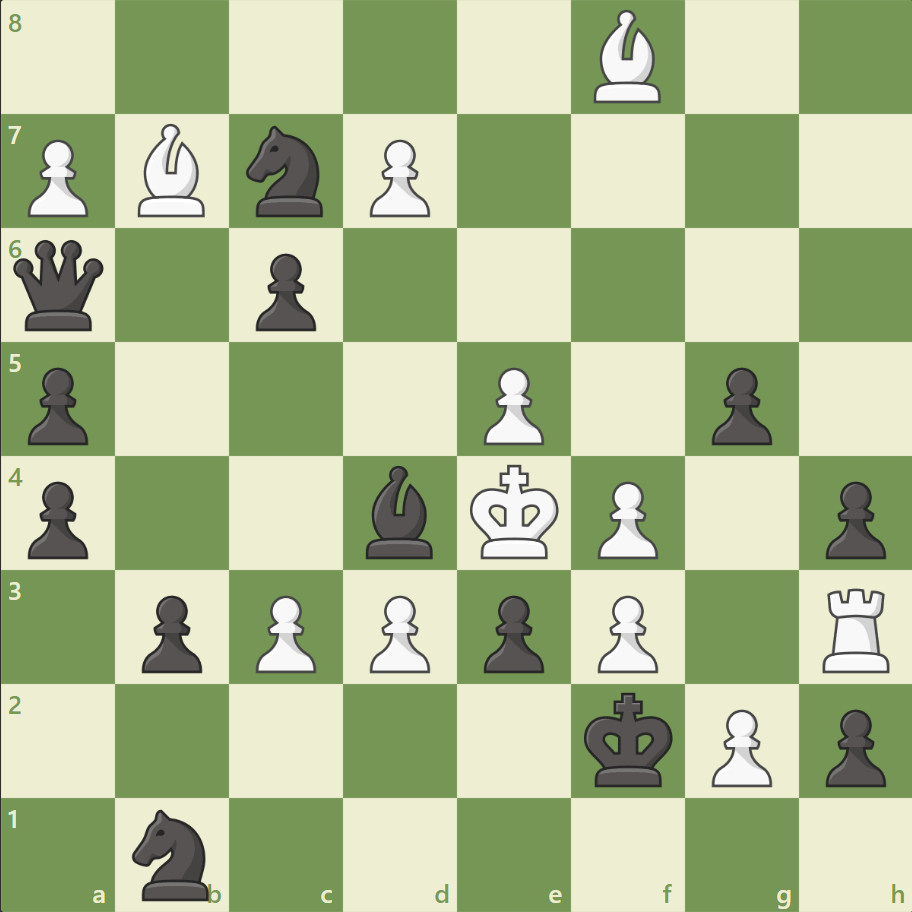B: (585, 6, 669, 109), (131, 120, 215, 222)
K: (465, 458, 565, 566)
P: (20, 132, 95, 223), (474, 359, 549, 450), (247, 586, 322, 677), (701, 700, 776, 791), (361, 132, 435, 223), (588, 473, 662, 564), (361, 586, 435, 677), (588, 586, 662, 677)
R: (814, 579, 897, 676)
b: (358, 460, 442, 563)
k: (579, 685, 679, 793)
n: (124, 802, 222, 904), (238, 121, 335, 223)
p: (247, 246, 322, 337), (20, 359, 95, 450), (701, 359, 776, 450), (20, 473, 95, 564), (133, 586, 208, 677), (474, 586, 549, 677), (815, 473, 889, 564), (815, 700, 889, 791)
q: (10, 236, 109, 335)
